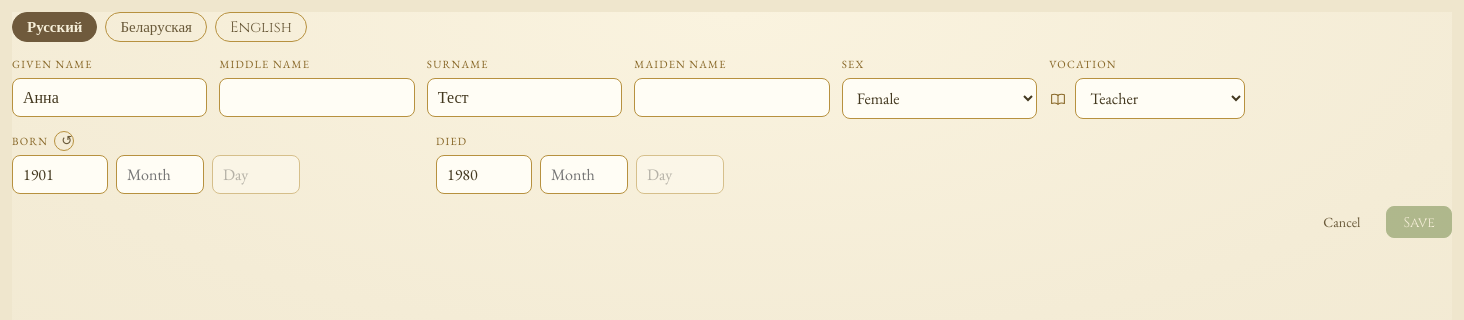
Test: MemberFieldsEditor › toggling reset a second time re-enables the field
Click the button with test id "revert-birth" at [64, 141], box [54,131,74,151]
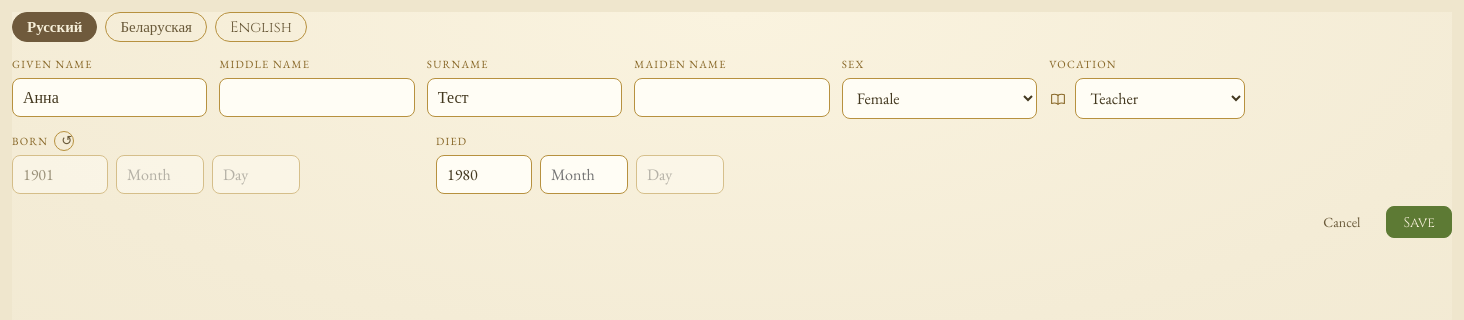
Check: the number field with test id "field-birthYear" is disabled, box [12,155,108,194]
Click the button with test id "revert-birth" at [64, 141], box [54,131,74,151]
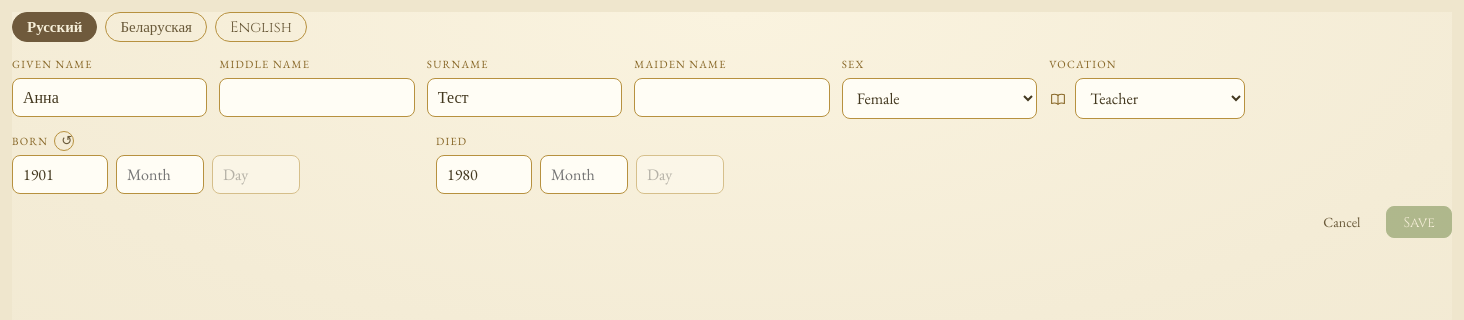
Check: the number field with test id "field-birthYear" is enabled, box [12,155,108,194]
